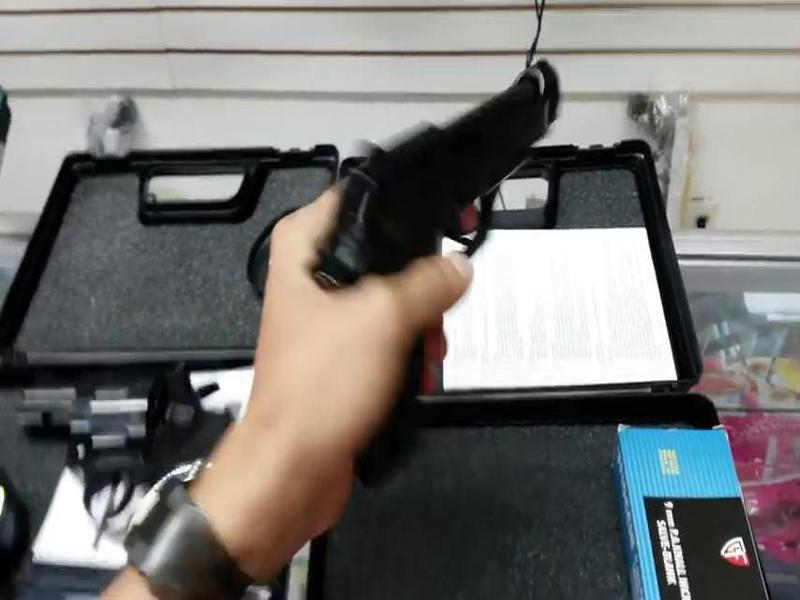Pistola: (266, 75, 580, 452)
